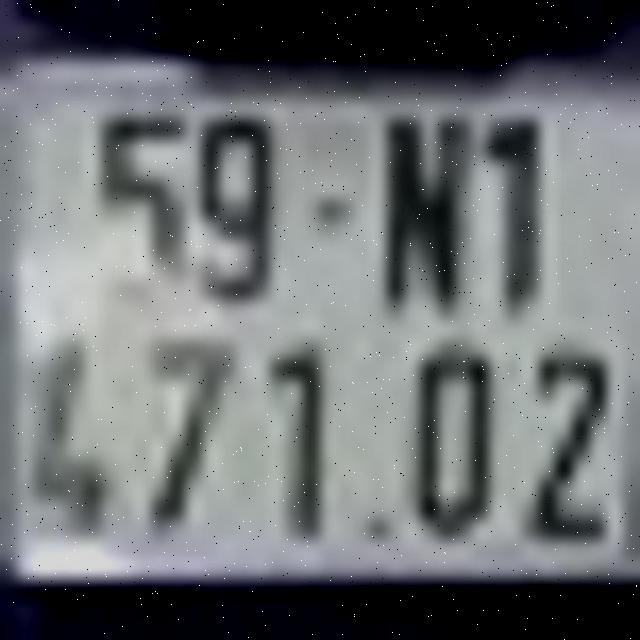0: (414, 340, 494, 540)
1: (267, 334, 332, 542), (484, 111, 548, 314)
2: (530, 345, 612, 544)
4: (29, 333, 112, 539)
5: (95, 111, 190, 310)
7: (141, 328, 239, 538)
9: (197, 112, 275, 307)
N: (381, 112, 471, 313)
